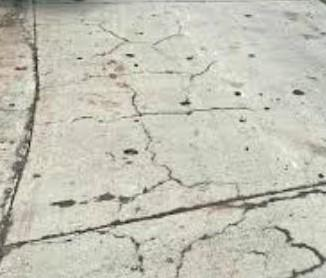alligator-crack: (0, 98, 326, 278), (22, 0, 221, 102)
